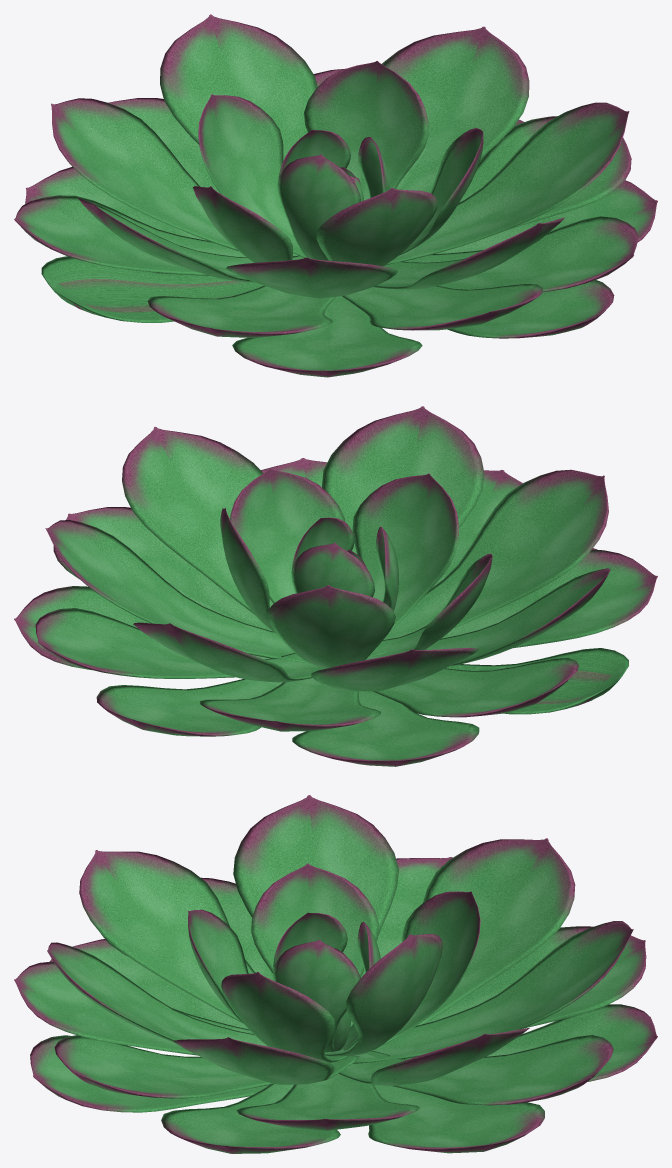
Rendered from Purple Echeveria.FBX.
3 renders of one model, top to bottom at view 1: azimuth 30°, elevation 25°; view 2: azimuth 150°, elevation 25°; view 3: azimuth 270°, elevation 25°, orthographic.
Visible parts, largest first — view 1: Purple Echeveria; view 2: Purple Echeveria; view 3: Purple Echeveria.
Boxes of the visible parts, box(x1,y1,x2,y2) form: Purple Echeveria: box(14, 14, 657, 377); Purple Echeveria: box(14, 406, 657, 766); Purple Echeveria: box(14, 795, 657, 1153).
Size of the model in its own units: 74.99 by 23 by 74.44.
1 material, 1 textured.
